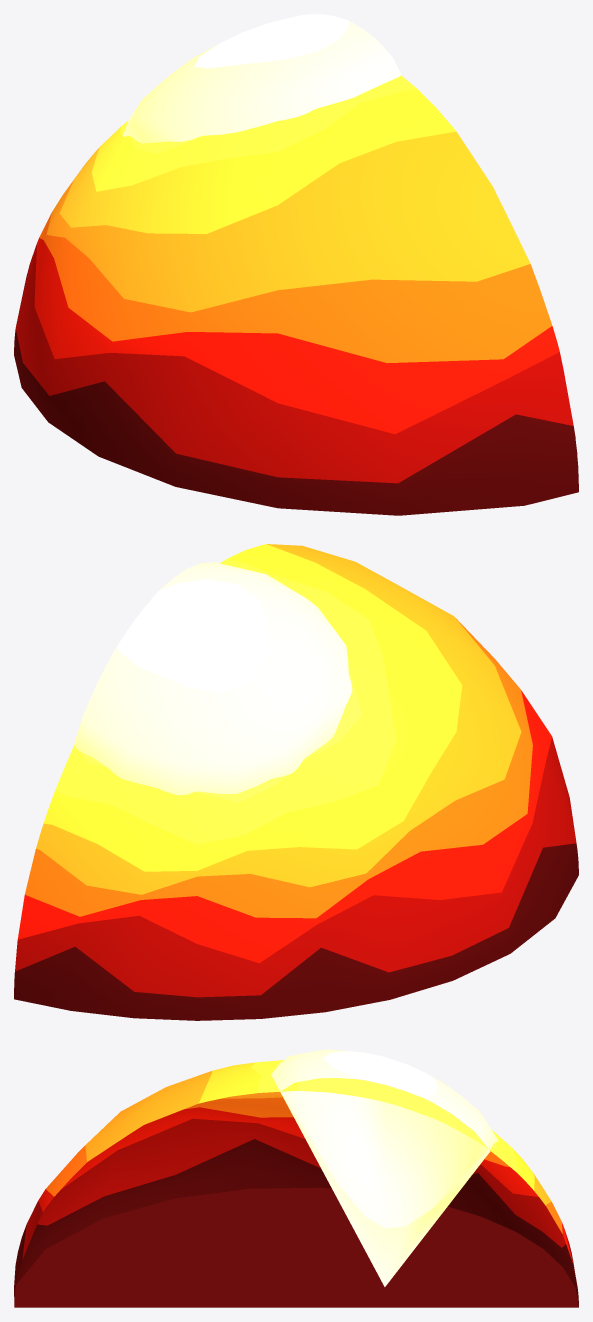
The model's file is shot_charge_b221.glb.
The picture shows the model from 3 angles, top to bottom: view 1: azimuth 30°, elevation 25°; view 2: azimuth 150°, elevation 25°; view 3: azimuth 270°, elevation 25°; orthographic projection. The views are drawn at different scales.
Visible parts, largest first — view 1: charge_twin0_b_fire_shot_charge_b221, charge_twin0_b_core_shot_charge_b221; view 2: charge_twin0_b_fire_shot_charge_b221, charge_twin0_b_core_shot_charge_b221; view 3: charge_twin0_b_fire_shot_charge_b221, charge_twin0_b_core_shot_charge_b221.
Boxes of the visible parts, x1=… form: charge_twin0_b_fire_shot_charge_b221: x1=14, y1=75, x2=578, y2=515; charge_twin0_b_core_shot_charge_b221: x1=122, y1=14, x2=401, y2=143; charge_twin0_b_fire_shot_charge_b221: x1=14, y1=544, x2=578, y2=1020; charge_twin0_b_core_shot_charge_b221: x1=74, y1=562, x2=352, y2=795; charge_twin0_b_fire_shot_charge_b221: x1=14, y1=1060, x2=578, y2=1307; charge_twin0_b_core_shot_charge_b221: x1=271, y1=1049, x2=498, y2=1286.
Size of the model in its own units: 5.97 by 5.37 by 11.91.
